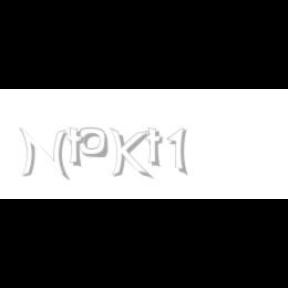1: (166, 128, 188, 176)
K: (110, 128, 150, 180)
N: (18, 128, 68, 180)
o: (79, 128, 108, 158)
t: (67, 128, 89, 168), (145, 128, 167, 168)
